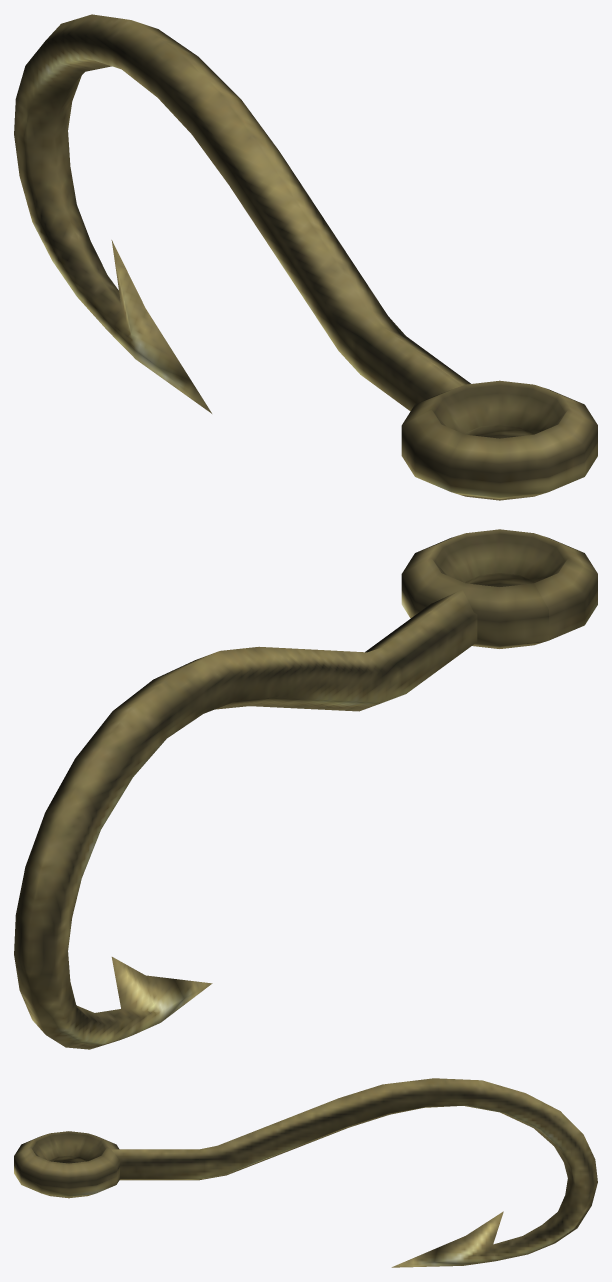
The model's file is MDL_MAIblade.obj.
3 views of the same model, one above another, from view 1: azimuth 30°, elevation 25°; view 2: azimuth 150°, elevation 25°; view 3: azimuth 270°, elevation 25° (orthographic). The views are drawn at different scales.
Parts seen in each view (by area): view 1: Model001_p00g00o00g._0p; view 2: Model001_p00g00o00g._0p; view 3: Model001_p00g00o00g._0p.
Boxes of the visible parts, x1,y1,x2,y2 form: Model001_p00g00o00g._0p: (14,14,597,500); Model001_p00g00o00g._0p: (14,529,597,1049); Model001_p00g00o00g._0p: (14,1078,597,1267).
Bounding box in the file's own units: 166 × 316 × 884.
Materials: 1 (1 with a texture image).
